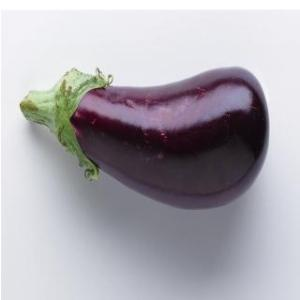eggplant: (18, 65, 270, 213)
